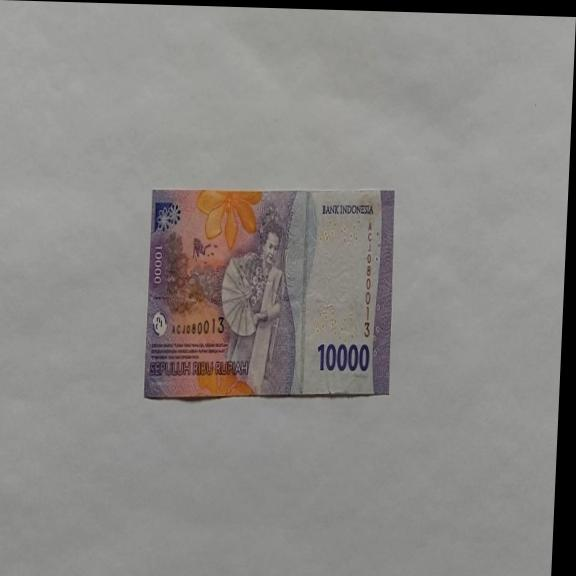Kertas: (142, 181, 398, 407), (315, 339, 371, 374)
